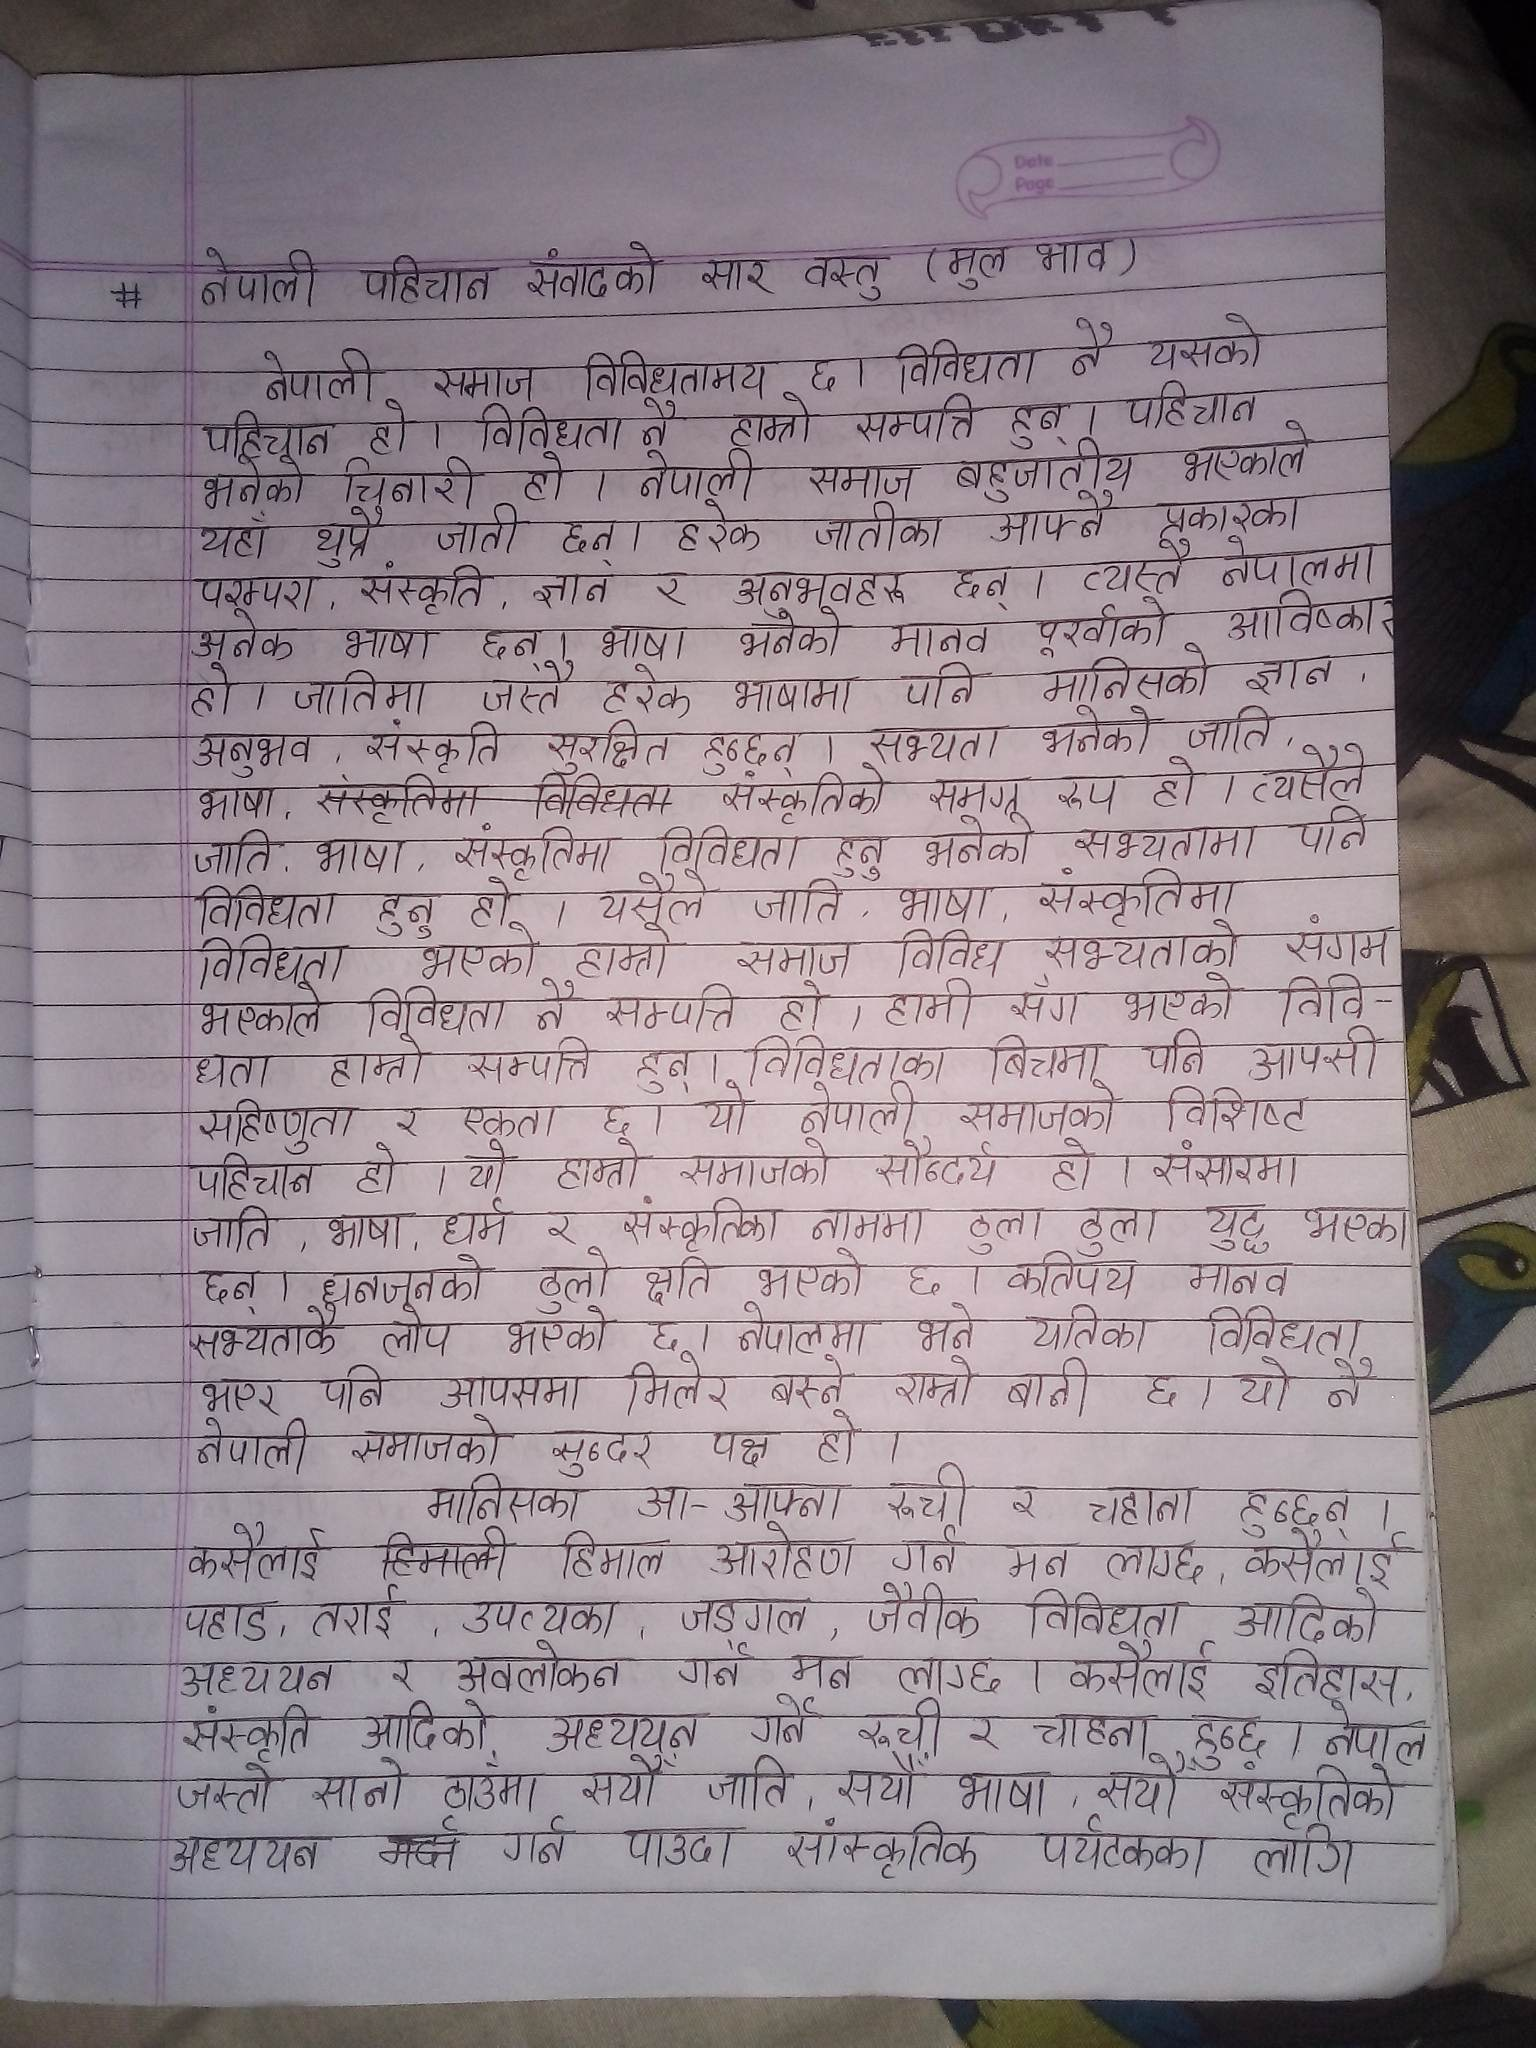text: (789, 1816, 987, 1884), (1037, 1817, 1213, 1885), (1037, 868, 1238, 922), (1223, 1763, 1399, 1822), (516, 235, 665, 305), (744, 1035, 945, 1085), (1220, 587, 1404, 640), (620, 1192, 783, 1251), (1042, 922, 1242, 971), (1226, 1587, 1402, 1642), (449, 1638, 624, 1692), (574, 348, 773, 395), (631, 1479, 841, 1522), (1139, 306, 1275, 373), (954, 448, 1133, 497), (1070, 1642, 1215, 1701), (195, 247, 326, 313), (723, 772, 895, 822), (189, 1309, 355, 1361), (1242, 1532, 1409, 1584), (1021, 1588, 1191, 1638), (182, 1522, 321, 1582), (1041, 655, 1212, 703), (321, 1256, 492, 1305), (1250, 1650, 1410, 1701), (891, 332, 1036, 389), (194, 1097, 357, 1147), (957, 1080, 1120, 1130), (371, 1529, 520, 1584), (679, 1135, 831, 1188), (1158, 1084, 1313, 1135), (708, 1524, 854, 1579), (350, 1416, 503, 1467), (1205, 1305, 1363, 1355), (1154, 1138, 1305, 1190), (1176, 431, 1323, 484), (361, 721, 511, 772), (453, 827, 611, 876), (353, 255, 500, 306), (1220, 535, 1376, 584), (426, 1479, 582, 1527), (1034, 597, 1167, 653), (471, 405, 621, 453), (678, 1592, 818, 1643), (1250, 1825, 1368, 1887), (461, 1592, 615, 1638), (542, 1708, 695, 1755), (734, 1305, 873, 1356), (1247, 1027, 1384, 1079), (813, 498, 945, 552), (616, 1819, 749, 1872), (182, 1706, 313, 1759), (360, 989, 503, 1037), (1121, 381, 1260, 431), (166, 1832, 331, 1874), (1071, 822, 1257, 860), (194, 1417, 323, 1471), (290, 668, 428, 718), (620, 1359, 741, 1416), (865, 1580, 984, 1637), (1321, 1700, 1434, 1759), (197, 937, 340, 984), (198, 985, 324, 1039), (360, 1698, 486, 1751), (873, 1137, 1002, 1188), (195, 884, 337, 930), (465, 1037, 595, 1087), (189, 1151, 319, 1201), (260, 347, 382, 400), (181, 1658, 336, 1700), (198, 411, 337, 458), (603, 984, 737, 1032), (733, 569, 907, 606), (1096, 1751, 1196, 1816), (857, 392, 978, 445), (657, 826, 799, 871), (1247, 755, 1371, 806), (1021, 1306, 1154, 1355), (1010, 1251, 1137, 1301), (991, 497, 1117, 547), (344, 456, 478, 503), (544, 721, 671, 769), (169, 1763, 281, 1817), (553, 1529, 671, 1580), (1004, 1356, 1102, 1417), (358, 564, 486, 611), (1284, 913, 1392, 968), (921, 818, 1033, 871), (728, 672, 863, 716), (799, 1085, 916, 1135), (440, 1369, 586, 1409), (858, 726, 1008, 764), (1238, 1480, 1354, 1530), (637, 450, 757, 498), (582, 1751, 679, 1811), (731, 935, 863, 979), (505, 1311, 616, 1363), (597, 877, 715, 926), (983, 1035, 1108, 1080), (550, 1422, 657, 1476), (1125, 971, 1234, 1022), (194, 729, 315, 776), (891, 926, 1004, 976), (329, 1037, 428, 1093), (1075, 547, 1192, 593), (1150, 497, 1305, 532), (570, 927, 679, 977), (195, 569, 319, 613), (752, 1253, 866, 1300), (599, 663, 695, 718), (736, 608, 845, 656), (1041, 710, 1157, 755), (534, 1250, 620, 1311), (703, 1755, 789, 1816), (187, 613, 295, 661), (419, 937, 539, 980), (886, 1464, 973, 1524), (886, 977, 978, 1034), (431, 356, 545, 402), (803, 1201, 925, 1243), (895, 1650, 1004, 1696), (1087, 1480, 1199, 1526), (671, 498, 760, 555), (200, 460, 307, 506), (892, 1355, 983, 1409), (442, 1758, 537, 1809), (1304, 1201, 1409, 1248), (481, 663, 578, 713), (311, 1587, 402, 1640), (502, 1817, 589, 1872), (1242, 648, 1341, 697), (837, 1755, 926, 1808), (1034, 1709, 1150, 1750), (189, 827, 282, 877), (724, 397, 815, 448), (753, 876, 844, 927), (378, 1822, 465, 1875), (181, 1593, 273, 1643), (436, 505, 524, 556), (699, 727, 803, 771), (799, 256, 892, 305), (553, 1142, 644, 1192), (957, 1763, 1046, 1813), (1105, 1542, 1210, 1584), (1184, 706, 1281, 751), (311, 1764, 402, 1813), (310, 834, 410, 877), (378, 1305, 457, 1359), (897, 661, 992, 706), (1075, 1201, 1163, 1250), (1199, 1200, 1279, 1253), (862, 1700, 942, 1753), (1196, 1709, 1278, 1761), (1279, 972, 1363, 1022), (192, 1205, 276, 1255), (313, 508, 387, 564), (892, 884, 999, 922), (198, 1371, 284, 1417), (765, 1358, 850, 1405), (1234, 1356, 1297, 1419), (1033, 232, 1112, 282), (192, 1048, 279, 1093), (324, 1206, 411, 1251), (699, 253, 774, 305), (591, 624, 700, 660), (460, 1100, 560, 1138), (1184, 1259, 1292, 1295), (642, 1256, 721, 1305), (1288, 810, 1375, 853), (195, 513, 271, 563), (884, 619, 991, 655), (928, 776, 1021, 816), (803, 464, 920, 497), (1139, 1026, 1212, 1077), (440, 1201, 515, 1251), (528, 569, 618, 610), (962, 1205, 1039, 1251), (749, 1693, 813, 1748), (1010, 977, 1083, 1026), (891, 1526, 963, 1574), (944, 240, 1013, 290), (913, 1300, 981, 1350), (1326, 1358, 1384, 1416), (679, 1646, 753, 1692), (198, 1261, 269, 1308), (374, 889, 442, 937), (340, 626, 432, 661), (198, 780, 273, 824), (813, 1411, 866, 1471), (1007, 1537, 1073, 1584), (1150, 755, 1202, 814), (318, 1364, 387, 1408), (949, 564, 1015, 610), (632, 1047, 695, 1093), (1054, 772, 1123, 814), (1007, 402, 1070, 447), (712, 1426, 779, 1467), (466, 877, 520, 930), (1071, 318, 1113, 384), (776, 977, 828, 1030), (353, 1147, 403, 1201), (561, 516, 618, 564), (791, 1650, 857, 1690), (479, 622, 539, 664), (190, 661, 232, 719), (465, 1140, 510, 1193), (833, 832, 887, 876), (966, 1705, 1010, 1756), (1050, 1138, 1092, 1192), (518, 456, 566, 502), (637, 397, 681, 447), (365, 410, 411, 455), (702, 1085, 745, 1134), (532, 982, 574, 1032), (1142, 1366, 1184, 1413), (1012, 1471, 1047, 1522), (384, 1651, 423, 1696), (544, 1200, 581, 1247), (800, 352, 841, 393), (650, 569, 692, 610), (389, 1100, 431, 1138), (650, 1314, 687, 1355), (599, 1100, 641, 1135), (907, 1256, 941, 1297)
